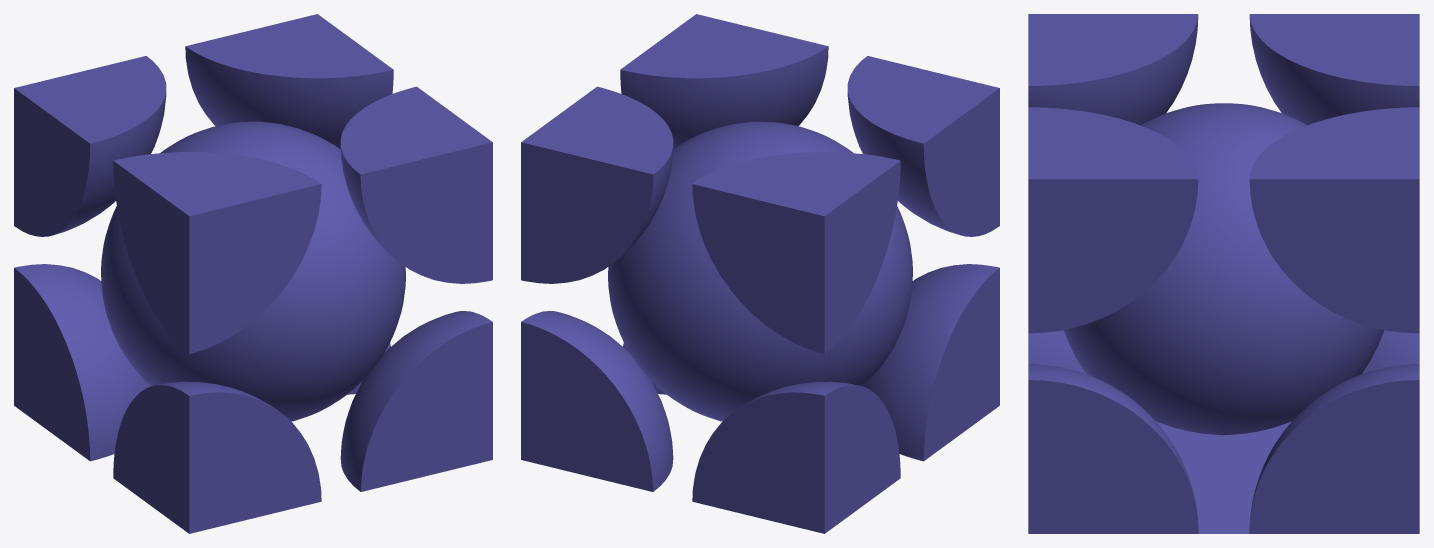
The model's file is BCC-lattice-rendered.glb.
3 views of the same model, side by side, from view 1: azimuth 30°, elevation 25°; view 2: azimuth 150°, elevation 25°; view 3: azimuth 270°, elevation 25° (orthographic). The views are drawn at different scales.
Parts seen in each view (by area): view 1: BCC Unit Cell; view 2: BCC Unit Cell; view 3: BCC Unit Cell.
Part boxes in pixels (box(x1,y1,x2,y2)): BCC Unit Cell: box(14, 14, 492, 533); BCC Unit Cell: box(521, 14, 999, 533); BCC Unit Cell: box(1028, 14, 1419, 533).
Size of the model in its own units: 2 by 2 by 2.
